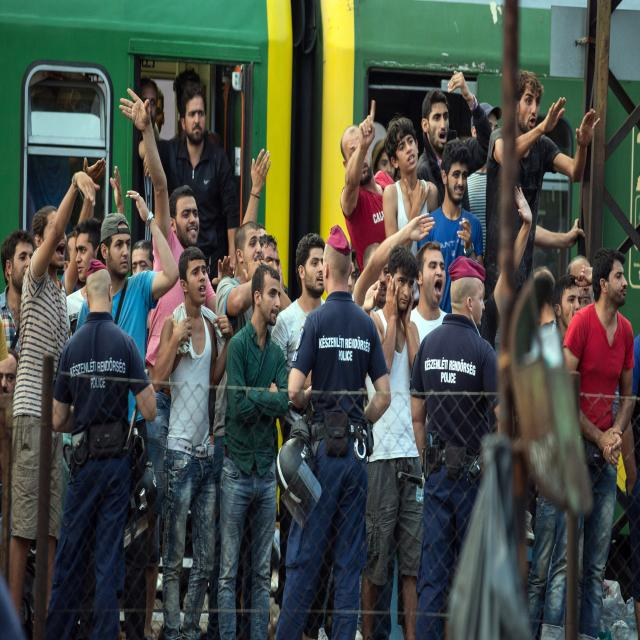body: (273, 223, 392, 640), (74, 188, 181, 640), (5, 168, 104, 640), (406, 250, 517, 640), (45, 257, 157, 640), (535, 243, 636, 640), (148, 245, 236, 640), (483, 68, 601, 319), (216, 263, 292, 640), (213, 218, 279, 640), (521, 264, 594, 640), (358, 242, 425, 640), (270, 230, 328, 639), (134, 83, 241, 294), (62, 161, 124, 517), (139, 83, 236, 294), (416, 138, 484, 319), (414, 68, 494, 215), (382, 115, 441, 311), (340, 98, 396, 274), (352, 211, 436, 313), (460, 101, 504, 260), (619, 329, 640, 640), (130, 75, 160, 278), (62, 216, 108, 334), (0, 226, 36, 354), (405, 240, 447, 347), (235, 148, 271, 272), (130, 237, 156, 358), (565, 256, 595, 310), (371, 138, 398, 182), (0, 341, 18, 400), (154, 89, 169, 136), (346, 255, 360, 298), (257, 224, 267, 245)
